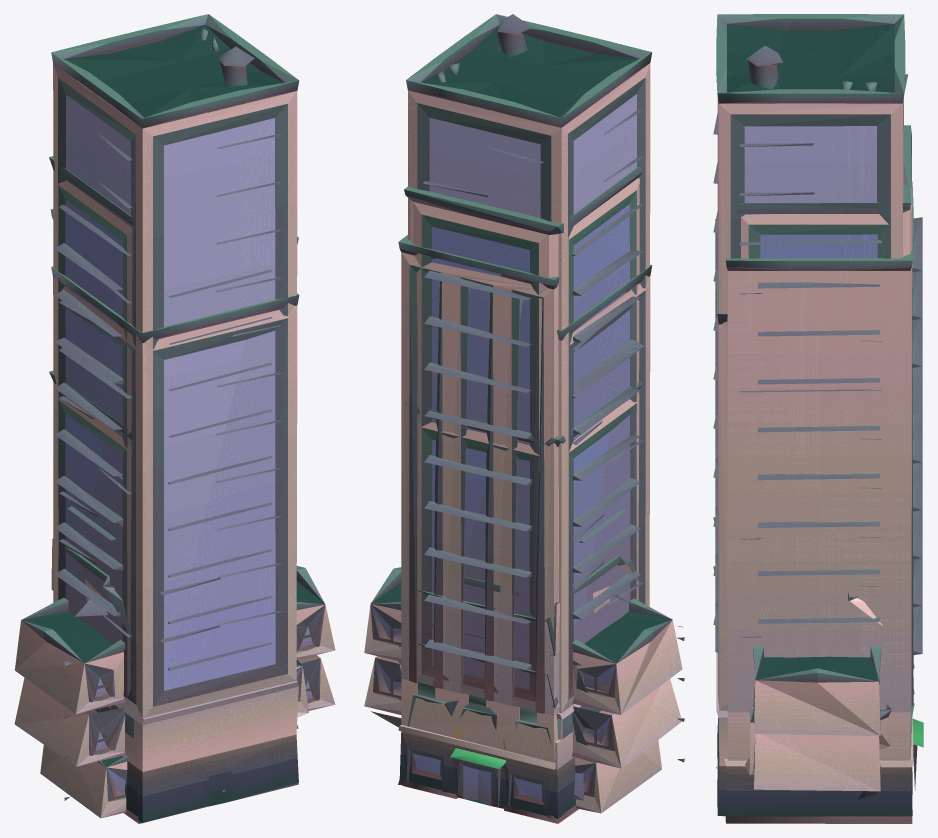
Rendered from city.glb.
3 renders of one model, left to right at view 1: azimuth 30°, elevation 25°; view 2: azimuth 150°, elevation 25°; view 3: azimuth 270°, elevation 25°, orthographic. The views are drawn at different scales.
Parts seen in each view (by area): view 1: city_skyscraper_d_body, city_skyscraper_c_body, city_skyscraper_b_body, city_k_body, city_skyscraper_a_body, city_e_body, city_i_body; view 2: city_skyscraper_b_body, city_skyscraper_e_body, city_skyscraper_d_body, city_skyscraper_a_body, city_k_body, city_skyscraper_c_body, city_e_body, city_i_body; view 3: city_skyscraper_e_body, city_skyscraper_d_body, city_k_body, city_skyscraper_b_body, city_skyscraper_c_body, city_skyscraper_a_body, city_e_body, city_i_body.
Boxes of the visible parts, <box> form: city_skyscraper_d_body: <box>51,14,299,800</box>; city_skyscraper_c_body: <box>51,266,299,823</box>; city_skyscraper_b_body: <box>49,156,272,823</box>; city_k_body: <box>14,566,335,800</box>; city_skyscraper_a_body: <box>49,370,294,823</box>; city_e_body: <box>40,659,308,818</box>; city_i_body: <box>51,538,132,708</box>; city_skyscraper_b_body: <box>404,166,643,818</box>; city_skyscraper_e_body: <box>398,235,627,822</box>; city_skyscraper_d_body: <box>406,14,652,750</box>; city_skyscraper_a_body: <box>402,380,643,823</box>; city_k_body: <box>364,567,684,800</box>; city_skyscraper_c_body: <box>450,264,652,814</box>; city_e_body: <box>397,660,661,813</box>; city_i_body: <box>407,555,640,762</box>; city_skyscraper_e_body: <box>724,181,913,823</box>; city_skyscraper_d_body: <box>713,14,907,809</box>; city_k_body: <box>753,646,881,799</box>; city_skyscraper_b_body: <box>715,125,922,767</box>; city_skyscraper_c_body: <box>713,282,923,816</box>; city_skyscraper_a_body: <box>715,412,922,821</box>; city_e_body: <box>745,704,891,775</box>; city_i_body: <box>848,577,914,756</box>.
Bounding box in the file's own units: 2.09 × 5.48 × 1.38.
Materials: 1 (1 with a texture image).
